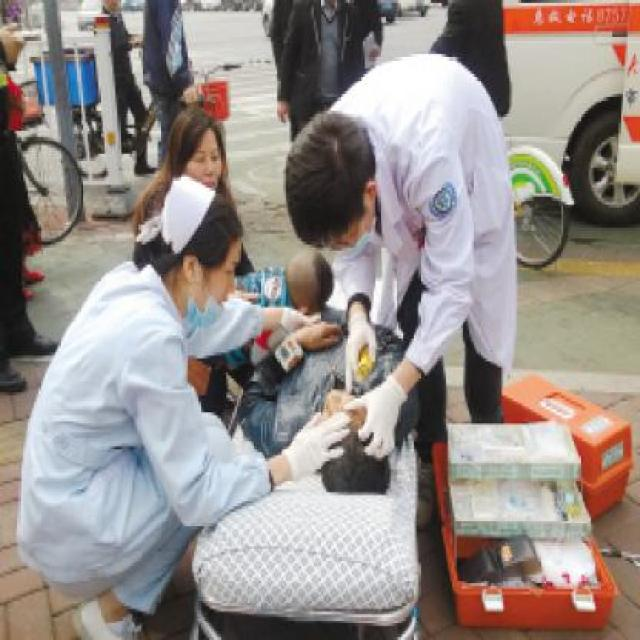fall: (217, 268, 429, 503)
